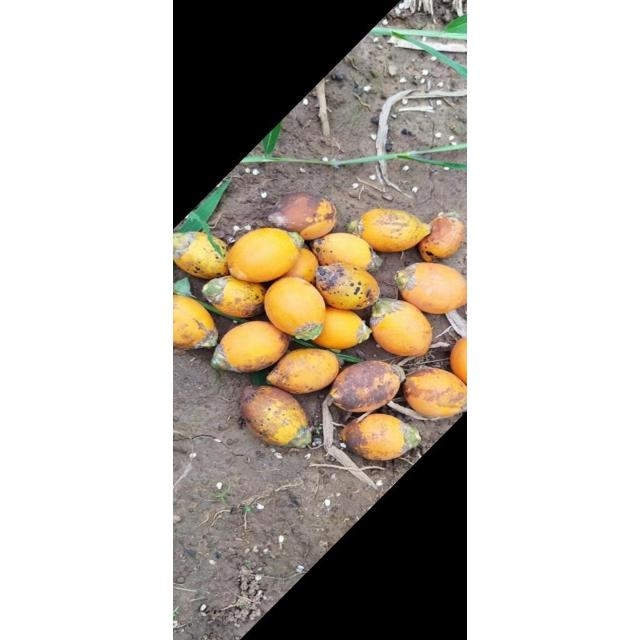good: (238, 385, 312, 447), (211, 322, 289, 374), (338, 412, 422, 460), (264, 277, 326, 339), (395, 262, 467, 314), (330, 361, 402, 413), (368, 299, 432, 357), (266, 348, 340, 394), (357, 208, 431, 252), (403, 368, 467, 418), (315, 264, 381, 312), (268, 193, 336, 239), (173, 232, 231, 280), (202, 276, 266, 318), (310, 308, 370, 350), (174, 294, 218, 350), (310, 233, 374, 271), (418, 214, 464, 262), (282, 248, 318, 284), (450, 338, 466, 388), (210, 344, 236, 372), (389, 362, 406, 383), (438, 210, 462, 222)
